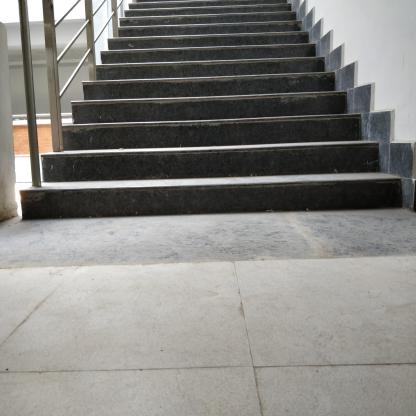stairs: (126, 3, 294, 232)
